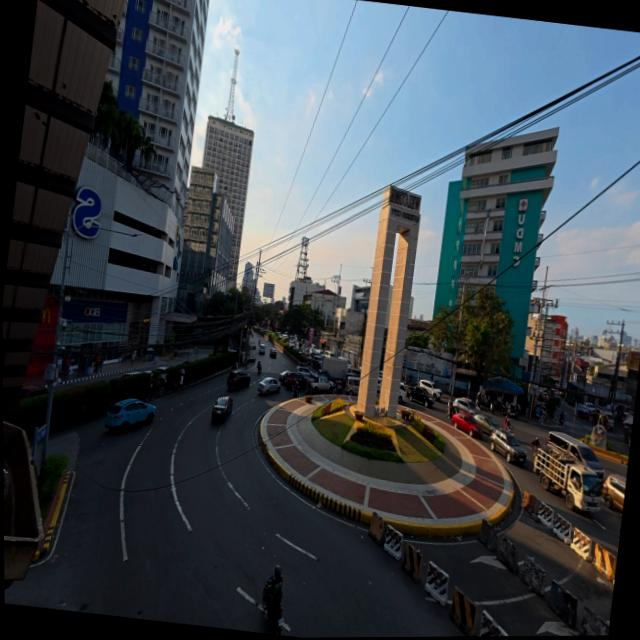car: (102, 394, 157, 437), (489, 428, 531, 466), (447, 407, 490, 440), (207, 394, 232, 425), (228, 365, 252, 390), (257, 374, 281, 396)
trucks: (529, 426, 614, 516), (399, 377, 440, 406)
